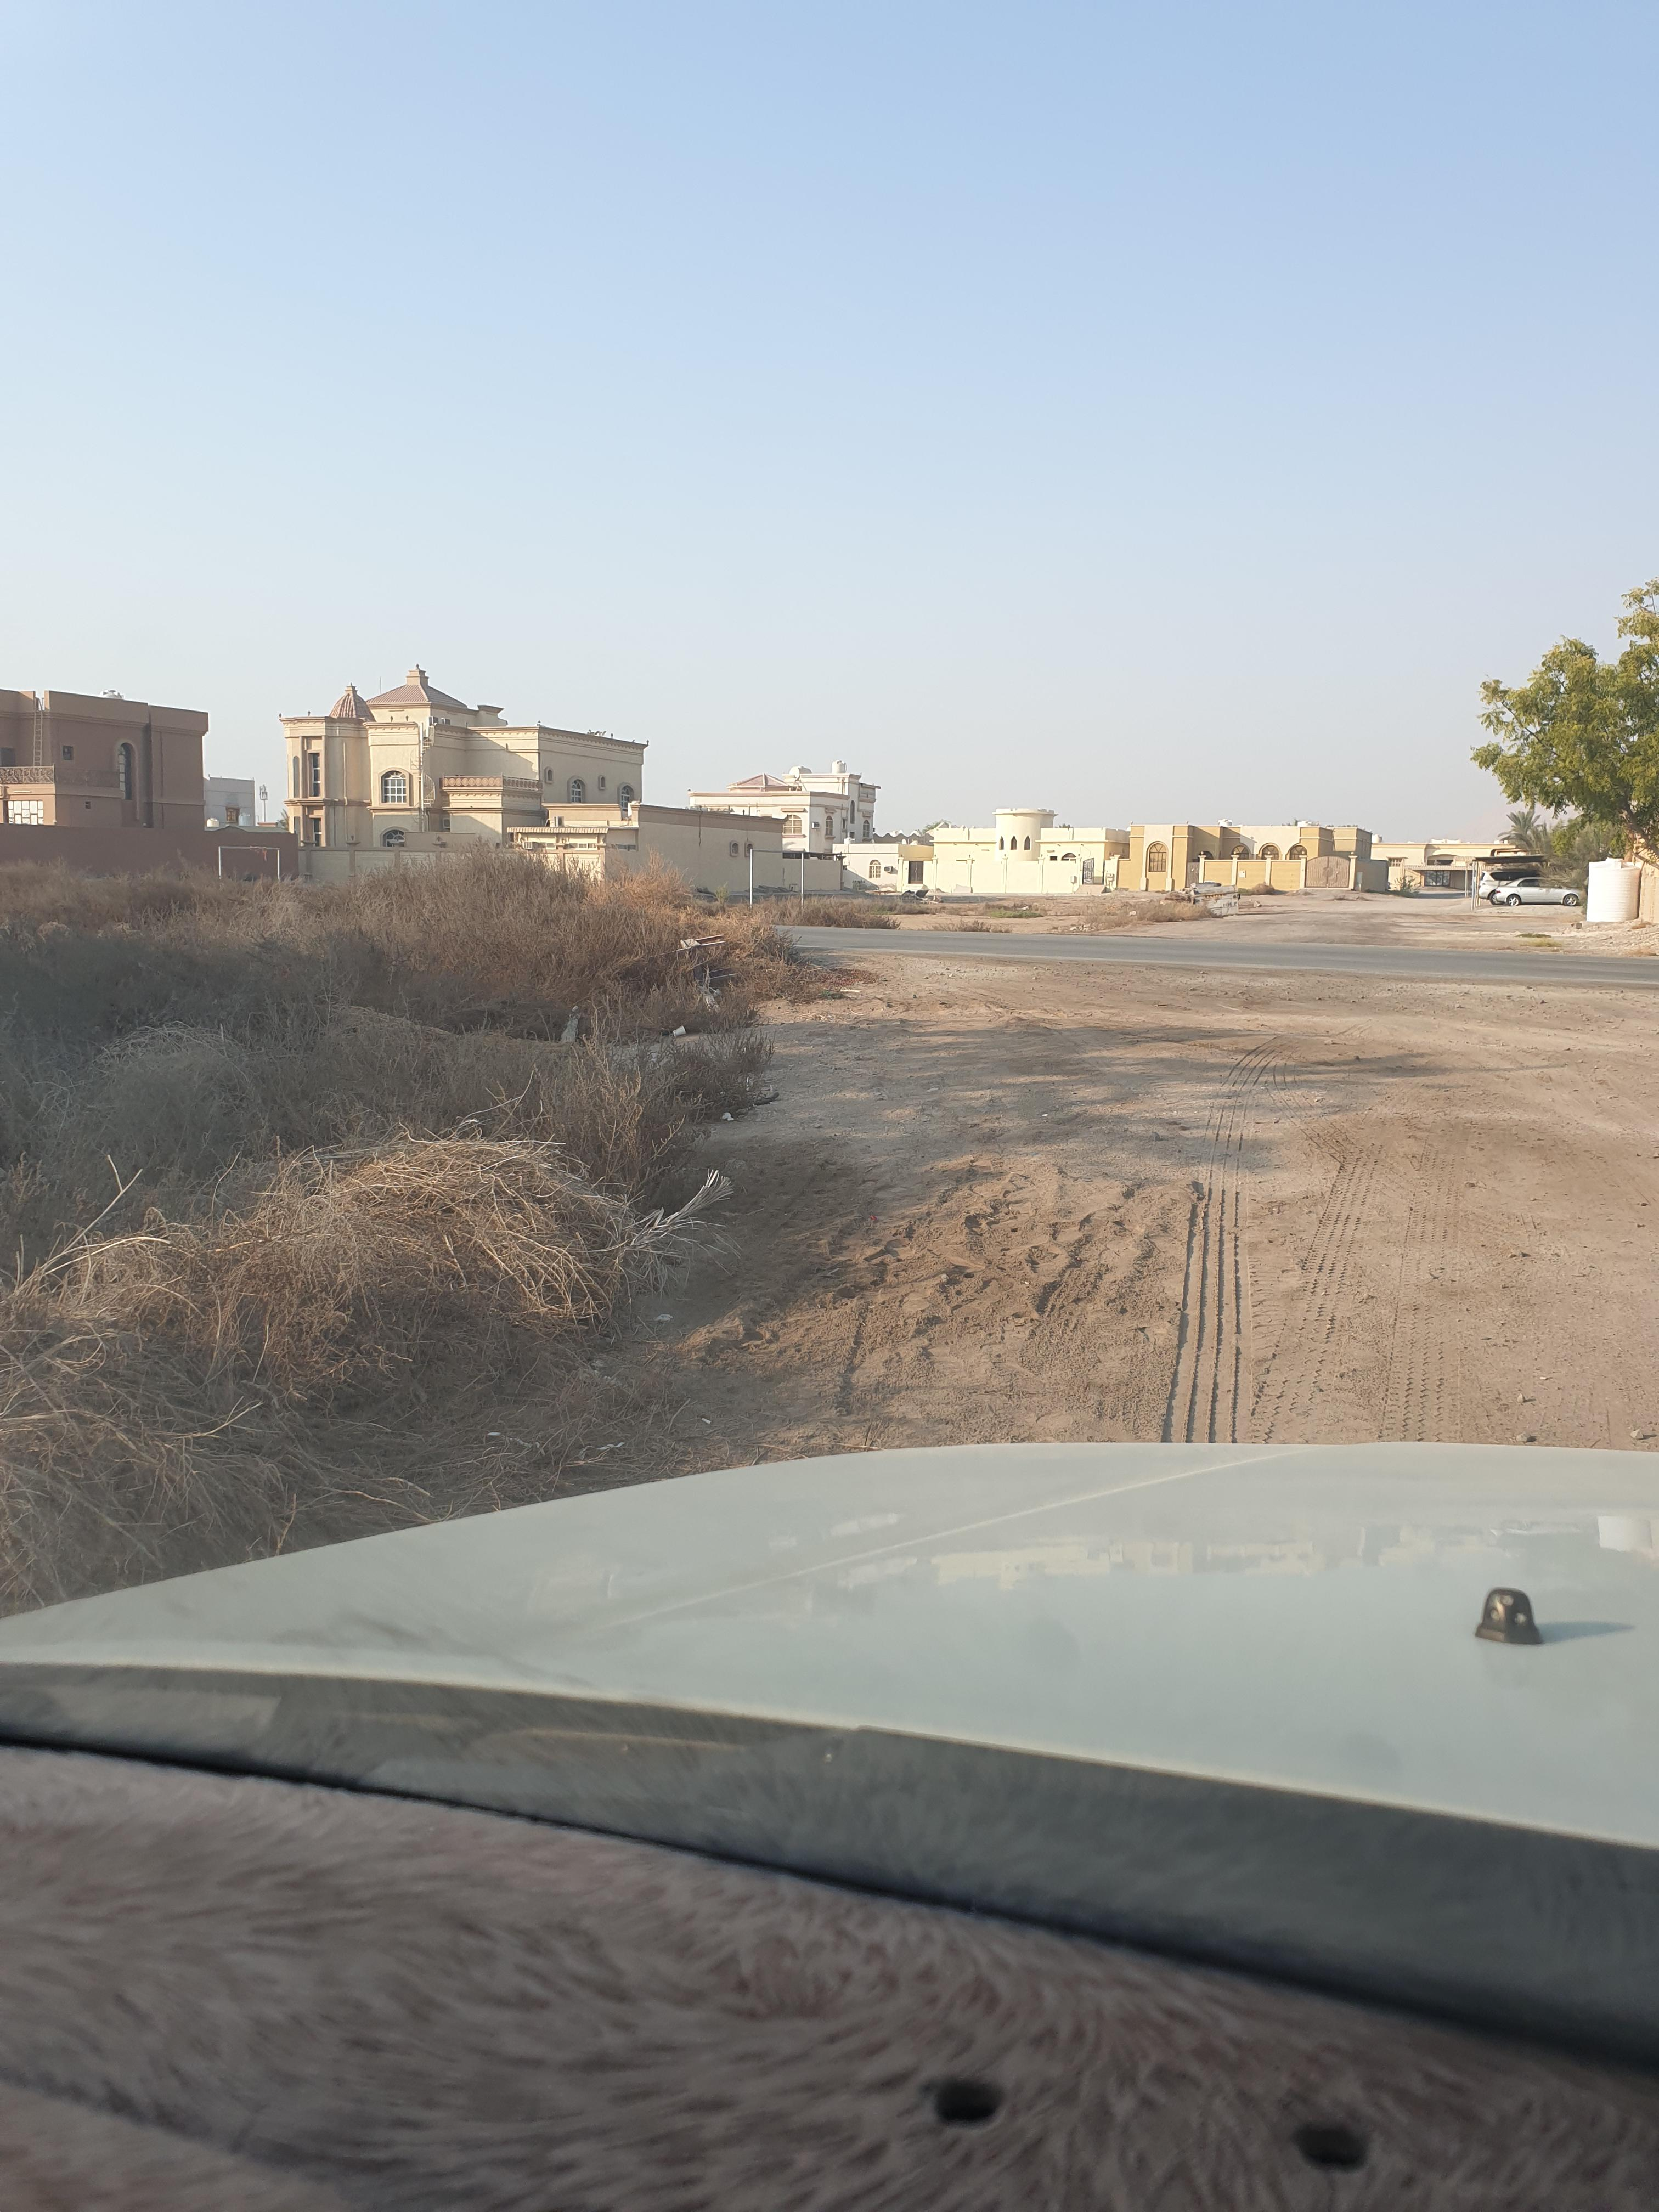fallen_trees: (336, 1130, 856, 1364)
